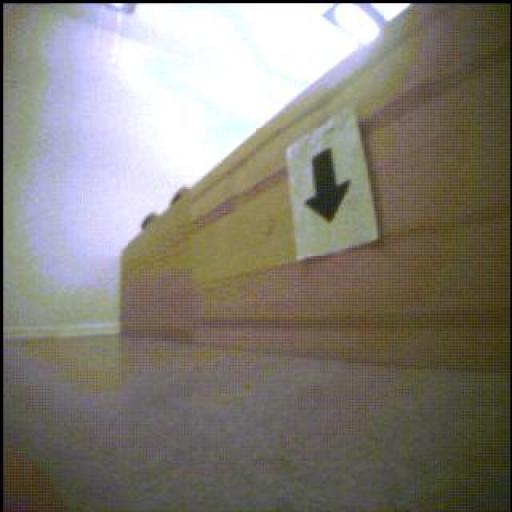arrow: (307, 150, 352, 223)
